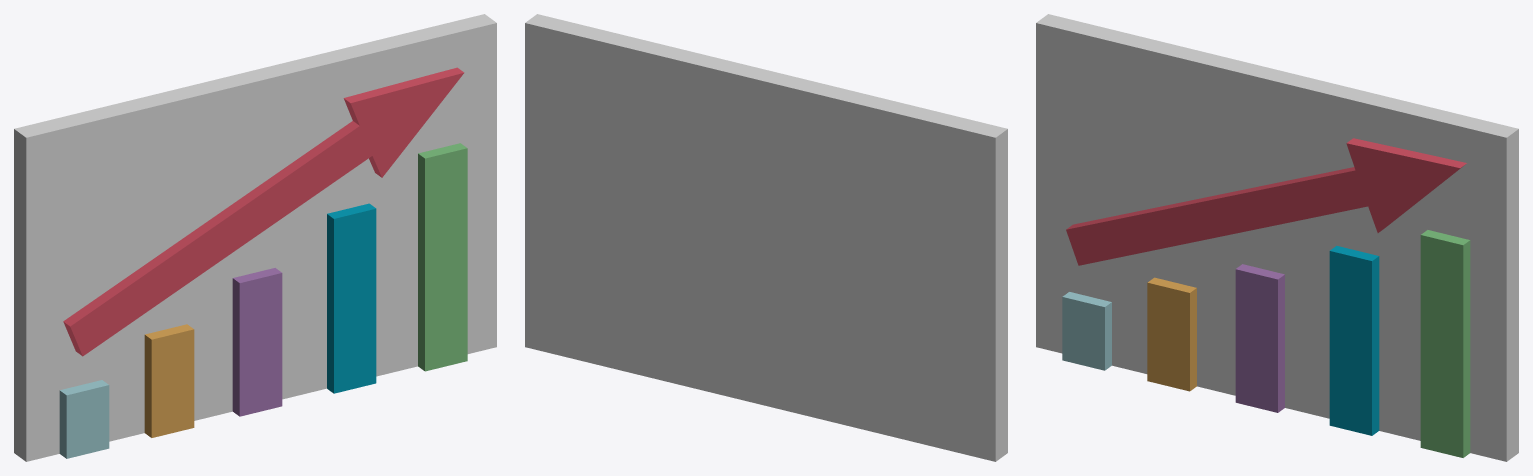
Rendered from asset.glb.
3 views of the same model, side by side, from view 1: azimuth 30°, elevation 25°; view 2: azimuth 150°, elevation 25°; view 3: azimuth 330°, elevation 25° (orthographic).
Parts seen in each view (by area): view 1: Mesh_Mesh_head_geo.001_lambert2SG.001; view 2: Mesh_Mesh_head_geo.001_lambert2SG.001; view 3: Mesh_Mesh_head_geo.001_lambert2SG.001.
Boxes of the visible parts, bbox=[...] form: Mesh_Mesh_head_geo.001_lambert2SG.001: bbox=[14, 14, 496, 461]; Mesh_Mesh_head_geo.001_lambert2SG.001: bbox=[525, 14, 1007, 461]; Mesh_Mesh_head_geo.001_lambert2SG.001: bbox=[1036, 14, 1518, 461].
Size of the model in its own units: 155 by 102 by 11.
